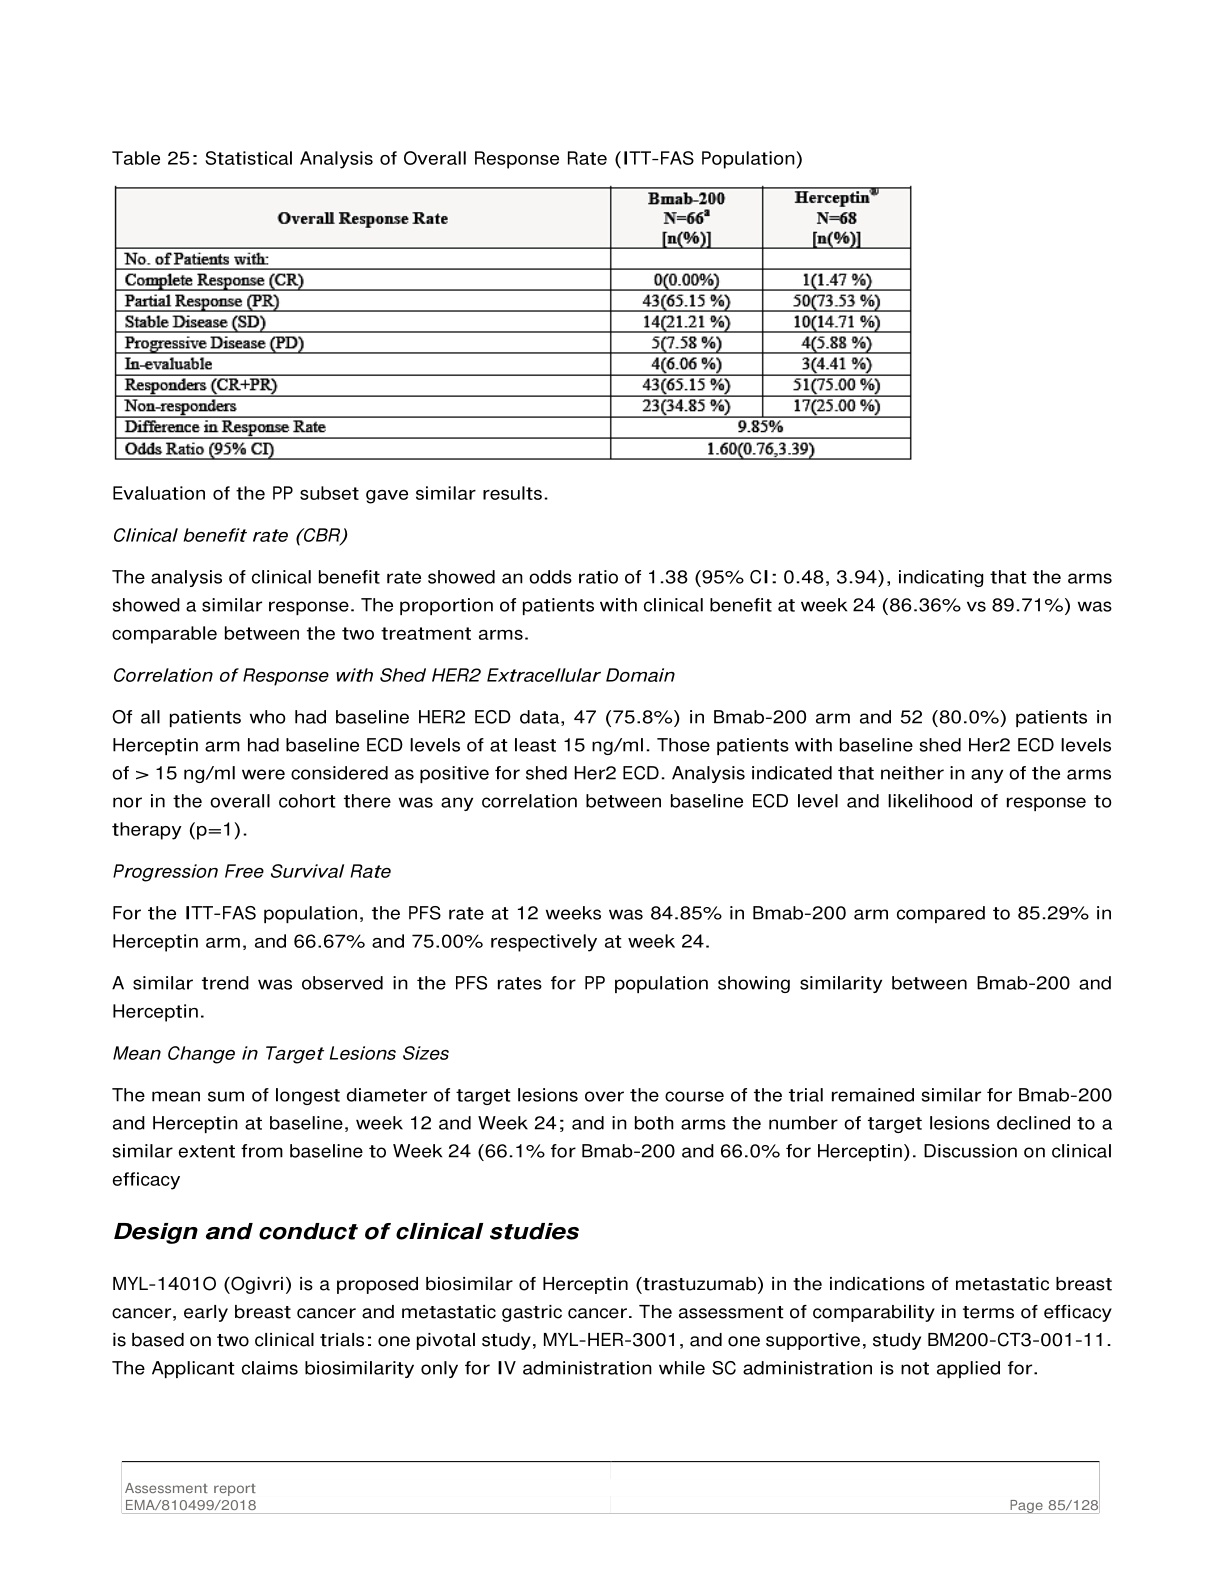merged_cells: (113, 186, 912, 462)
